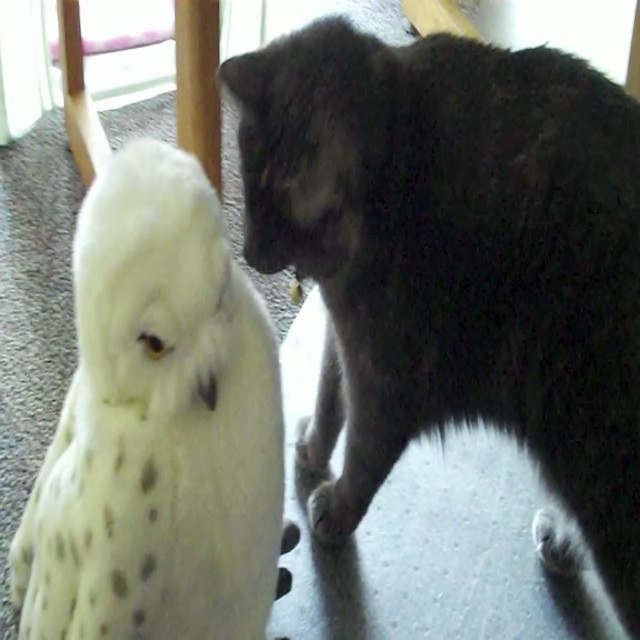Owl: (2, 131, 286, 639)
